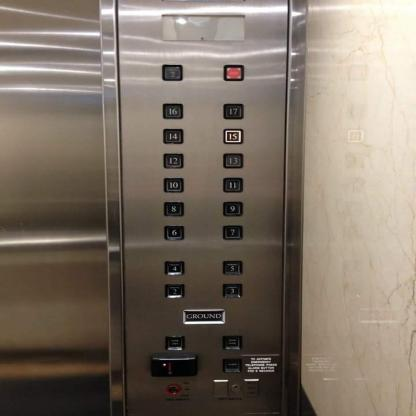10: (162, 177, 184, 193)
11: (223, 176, 244, 192)
12: (162, 153, 184, 168)
13: (222, 153, 242, 168)
14: (162, 128, 183, 144)
15: (223, 128, 243, 144)
16: (162, 102, 183, 119)
17: (222, 103, 244, 119)
2: (160, 63, 184, 82), (163, 283, 184, 298)
3: (221, 282, 243, 298)
4: (163, 260, 184, 275)
5: (221, 260, 243, 275)
6: (163, 225, 184, 240)
7: (222, 225, 243, 239)
8: (162, 201, 184, 217)
9: (223, 201, 244, 217)
text_blur: (220, 334, 242, 350), (220, 357, 242, 372), (163, 335, 184, 350)
text_ground: (181, 309, 226, 324)
text_stop: (222, 63, 244, 82)
